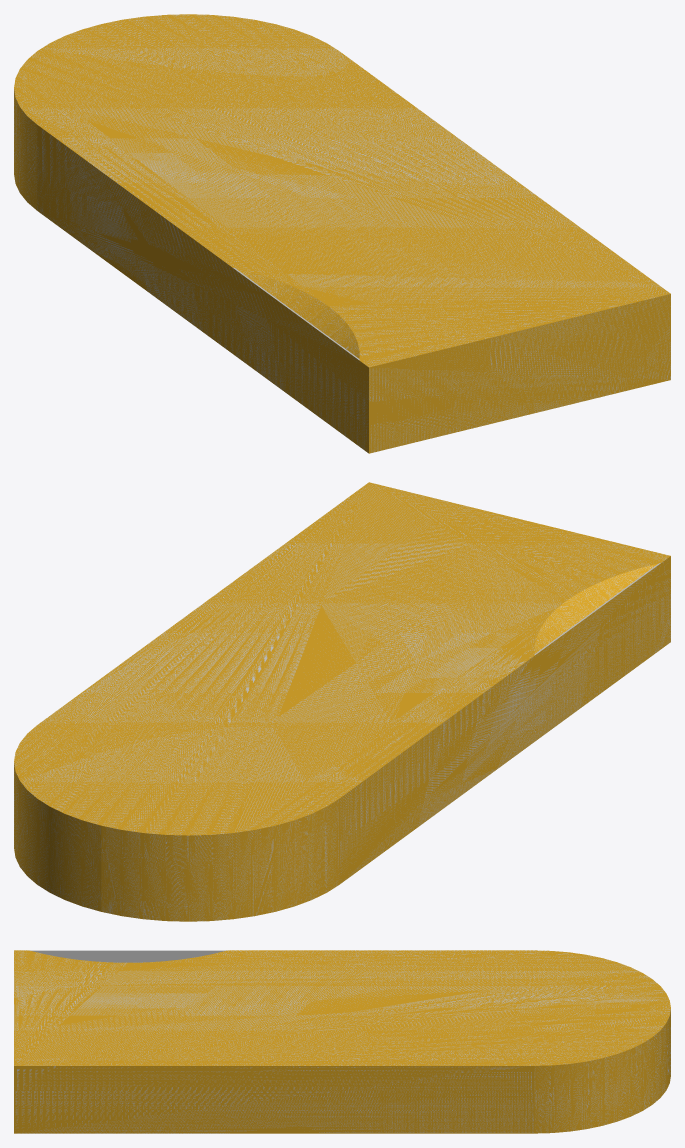
File: original-22.obj
The picture shows the model from 3 angles, top to bottom: view 1: azimuth 30°, elevation 25°; view 2: azimuth 150°, elevation 25°; view 3: azimuth 270°, elevation 25°; orthographic projection. The views are drawn at different scales.
Parts seen in each view (by area): view 1: mesh37/mesh37-geometry#mesh37-geometry; view 2: mesh37/mesh37-geometry#mesh37-geometry; view 3: mesh37/mesh37-geometry#mesh37-geometry.
Boxes of the visible parts, left/top/right/bottom form: mesh37/mesh37-geometry#mesh37-geometry: left=14, top=14, right=670, bottom=453; mesh37/mesh37-geometry#mesh37-geometry: left=14, top=482, right=670, bottom=921; mesh37/mesh37-geometry#mesh37-geometry: left=14, top=950, right=670, bottom=1133.
Bounding box in the file's own units: 0.4496 × 0.1226 × 1.08.
